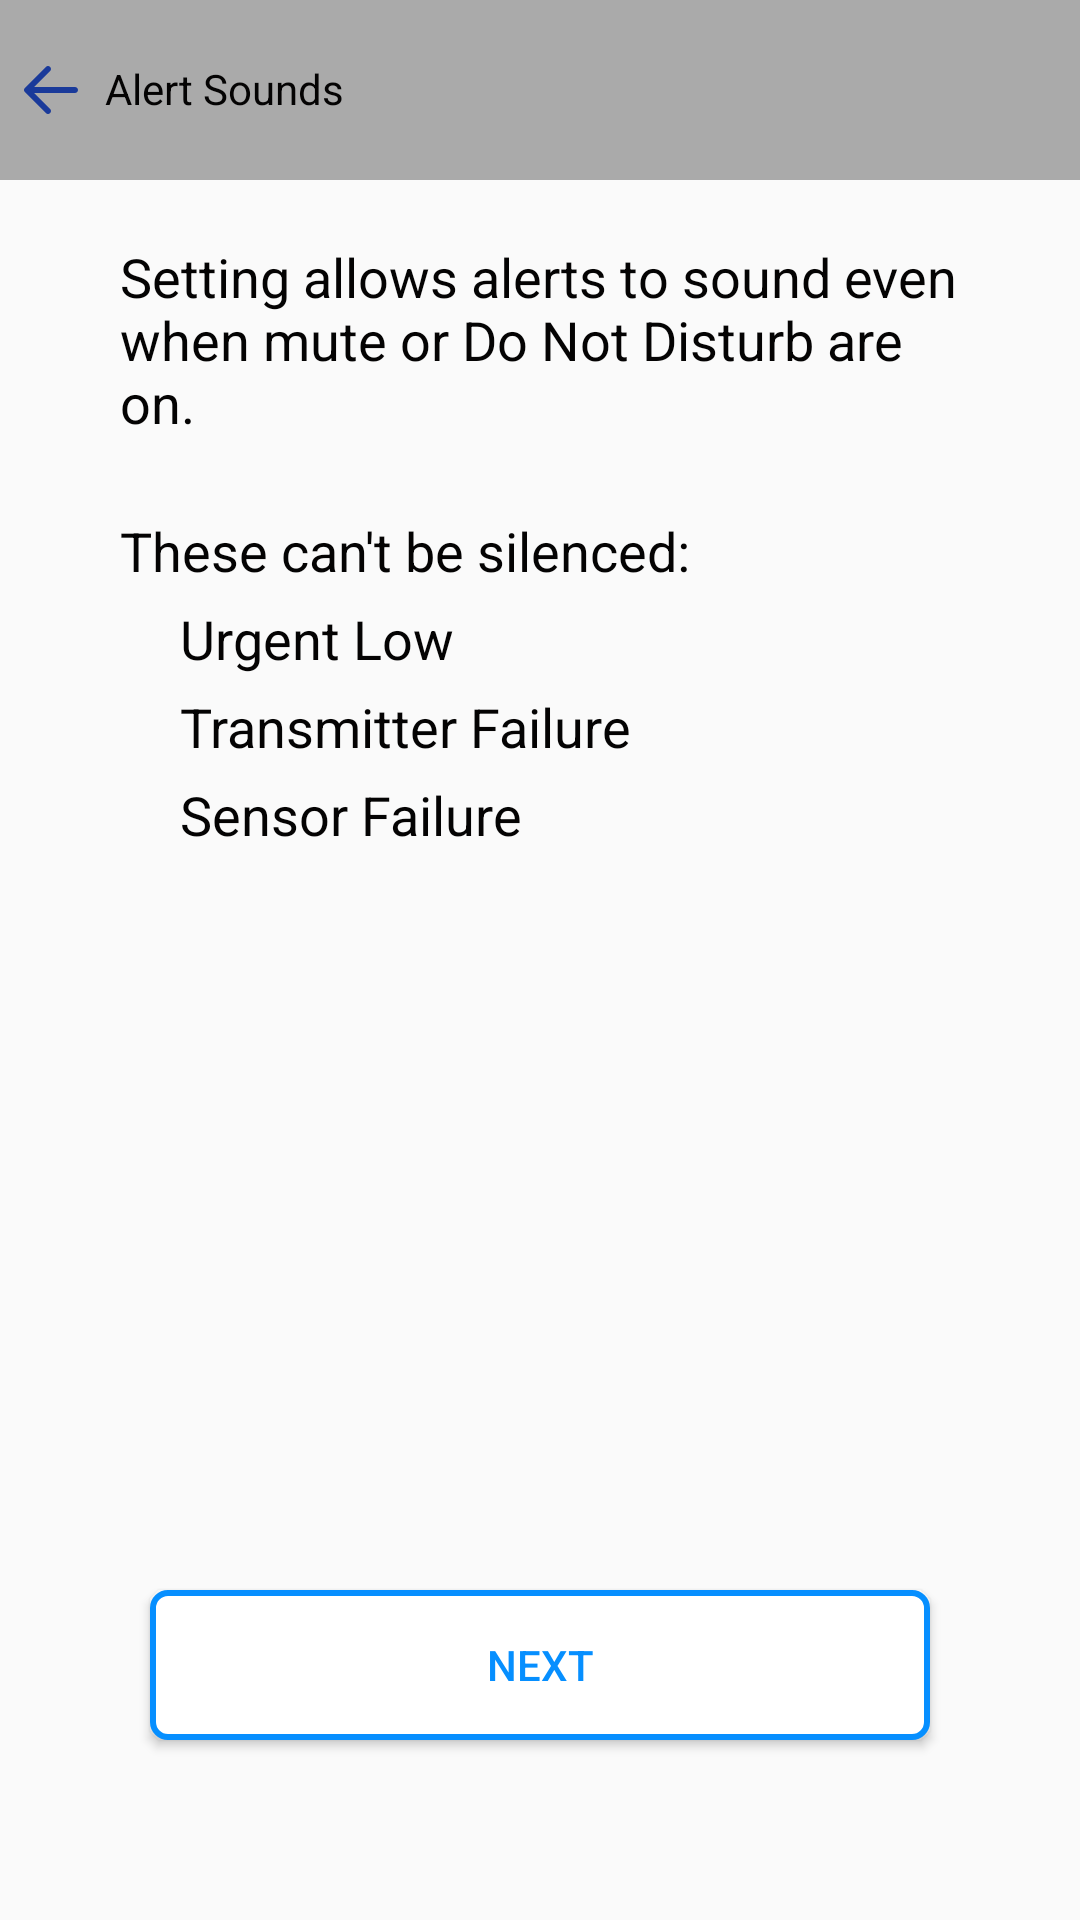

Screen size 1080×1920. Icon name, then its center in pixels as [x,y]:
left: [51,90]
